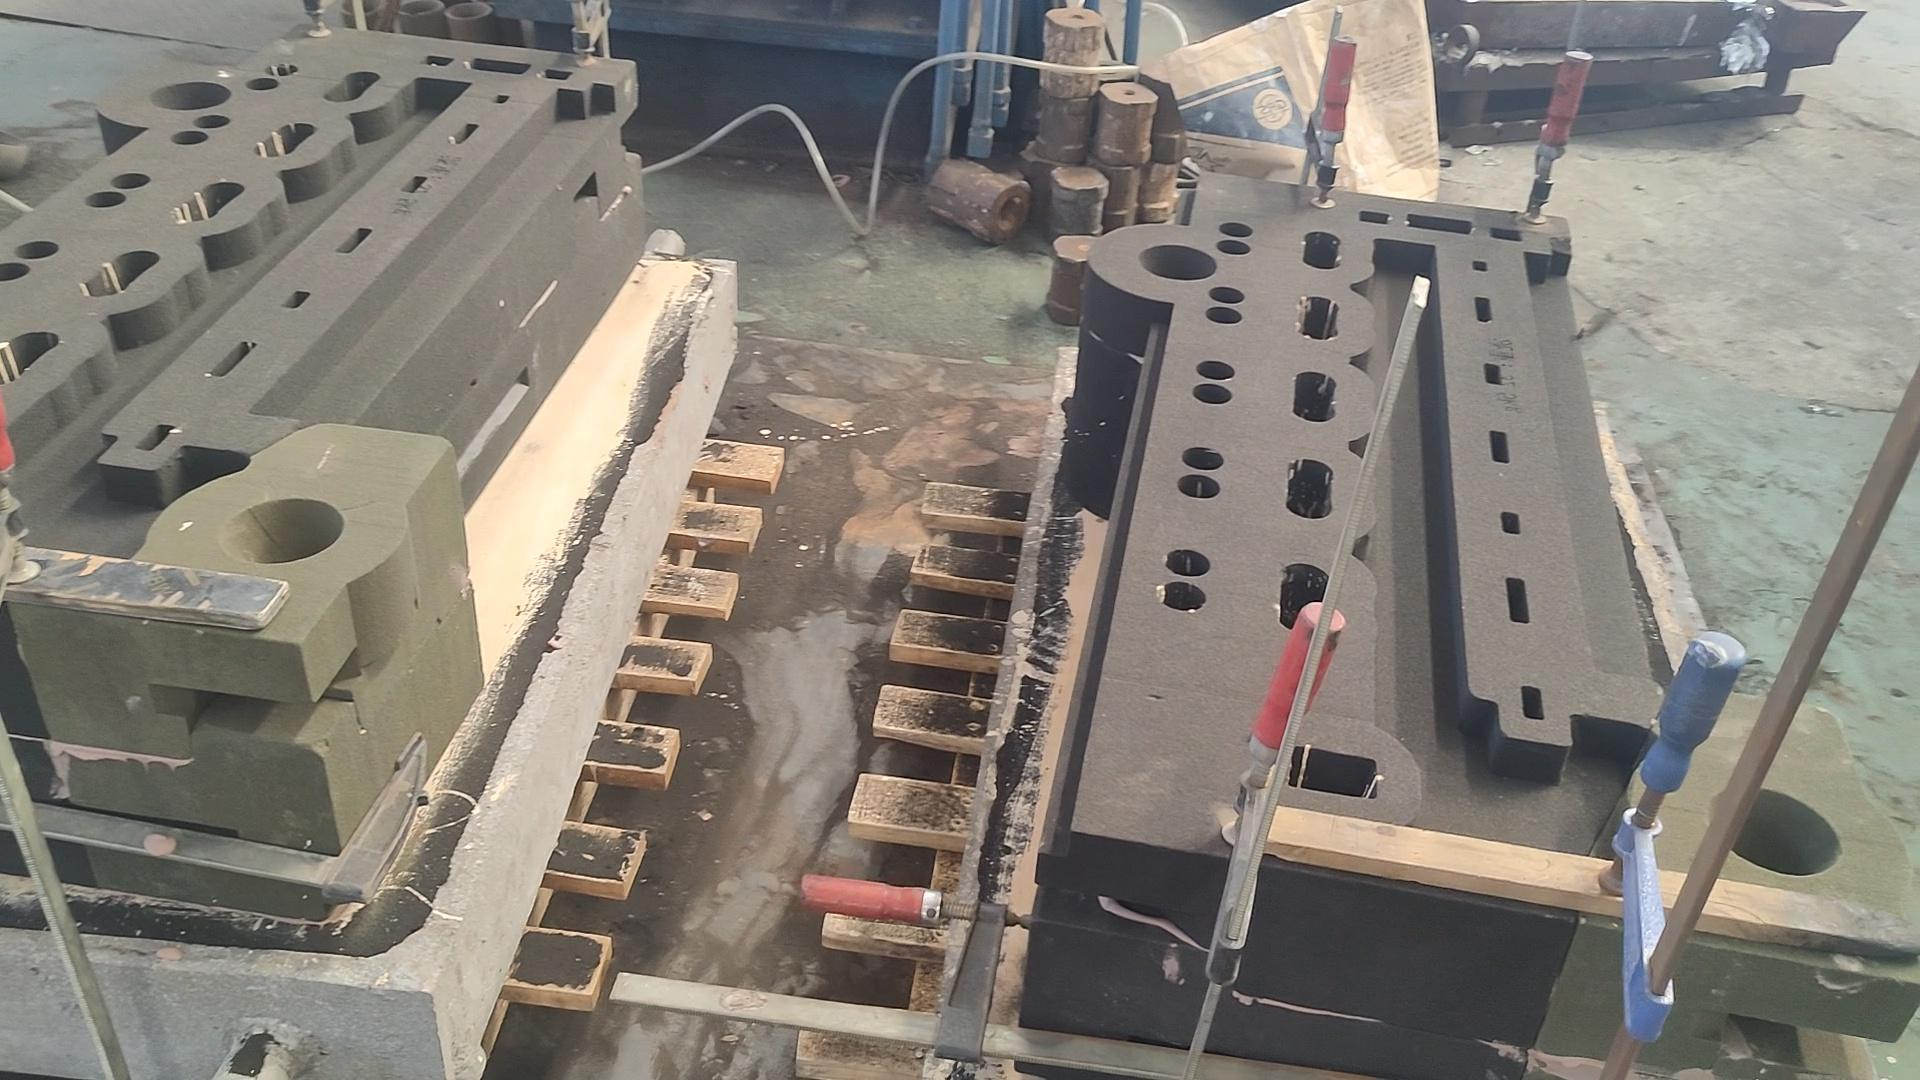pouring hole: (1706, 789, 1842, 876), (219, 498, 345, 564), (1138, 244, 1217, 280), (148, 80, 232, 111), (444, 1, 491, 17), (339, 1, 382, 16), (393, 1, 440, 13)
